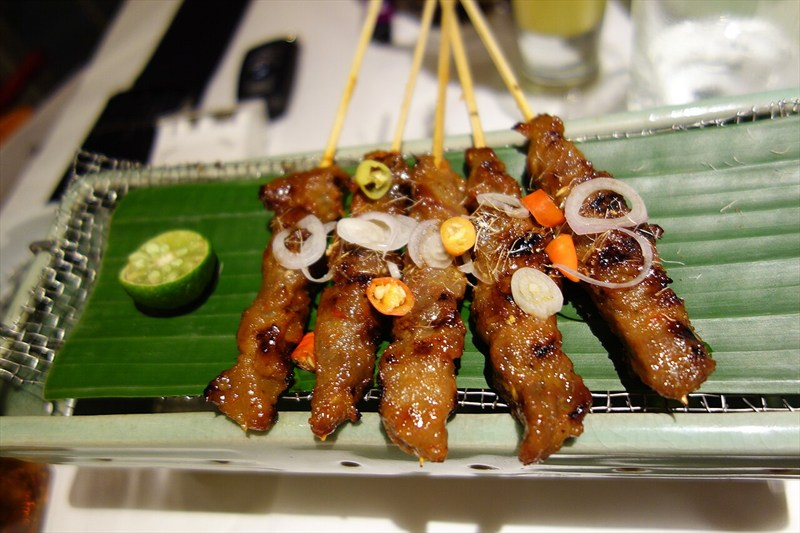Sate Ayam: (122, 79, 673, 436)
